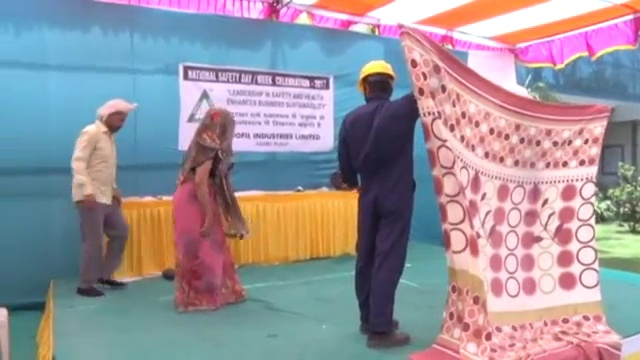helmet: (357, 58, 399, 92)
helmet_off: (98, 99, 134, 136), (202, 104, 235, 139)
helmet_on: (357, 58, 399, 105)
person: (334, 57, 419, 342), (173, 104, 249, 313), (66, 98, 135, 295)
